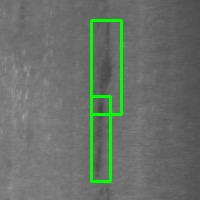inclusion: (91, 20, 121, 114), (91, 96, 110, 181)
